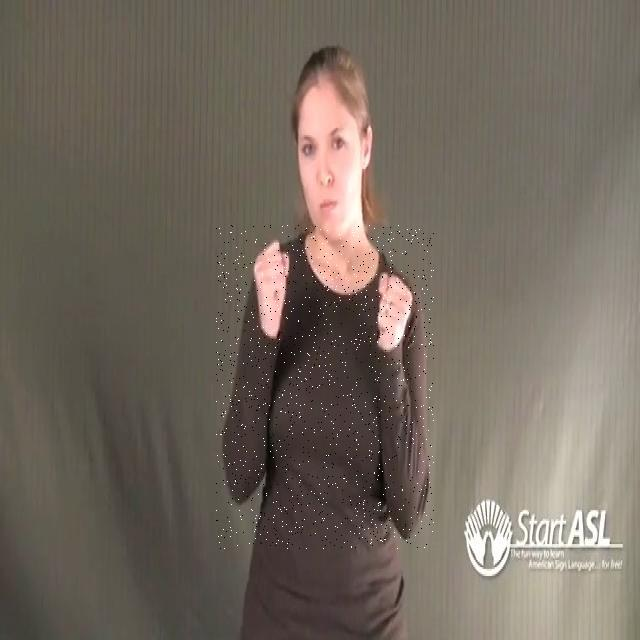cold: (216, 225, 434, 549)
